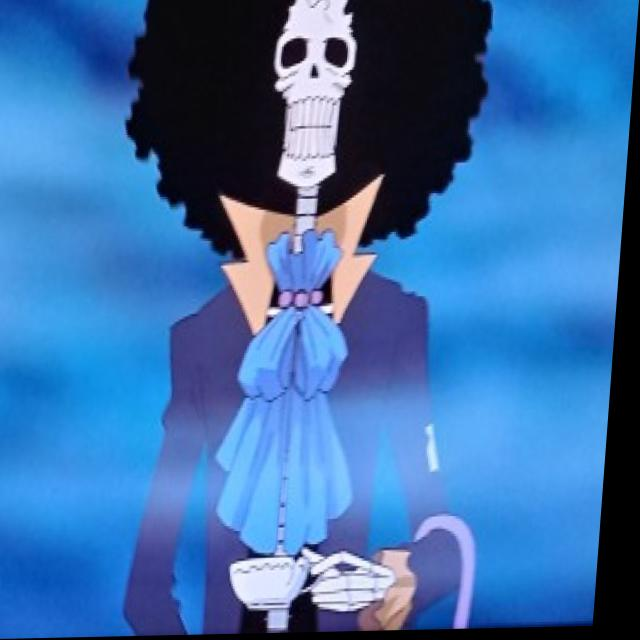Blook: (103, 0, 505, 272)
